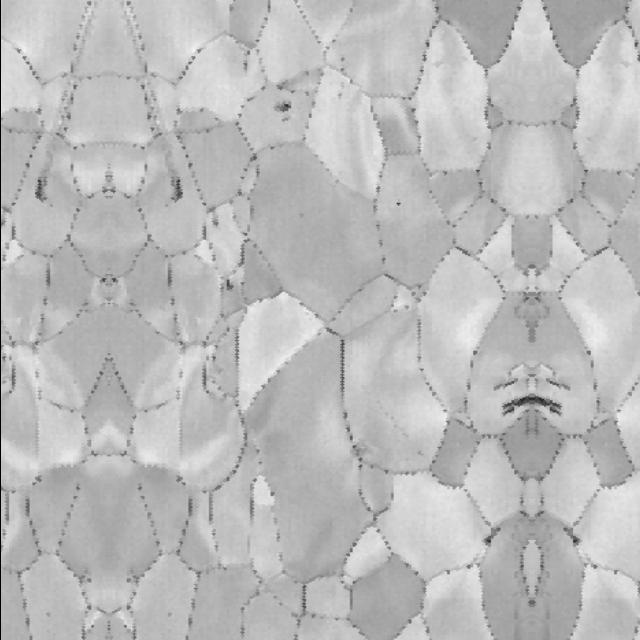good_void: (493, 390, 535, 419), (210, 272, 244, 305), (529, 393, 570, 419), (24, 168, 51, 205), (167, 167, 189, 205), (478, 521, 506, 549), (557, 522, 586, 549), (493, 369, 521, 396), (543, 369, 571, 396), (271, 97, 299, 123), (29, 469, 45, 489), (209, 209, 222, 231), (173, 469, 187, 488), (0, 210, 8, 230), (295, 210, 308, 222), (335, 87, 345, 102), (393, 198, 404, 209), (163, 609, 174, 620), (43, 609, 54, 620), (415, 447, 425, 459)
